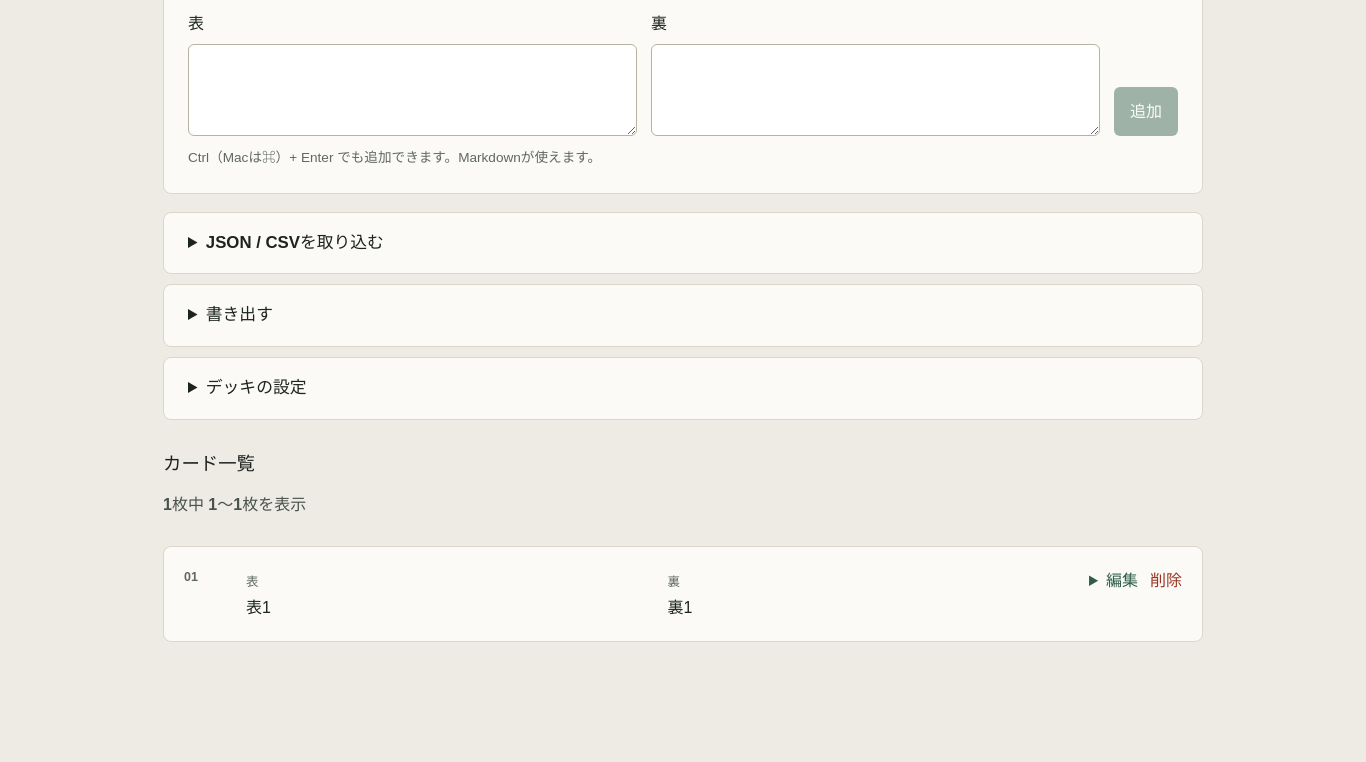
Scenario: DeckDetailScreen › 削除は確認を挟まず実行し、その場で元に戻せる
(page scrolled)
What coordinates should you click on to do the following:
click the button "削除"
I would click on:
 (1166, 581)
Its box is [1150,567,1182,594].
(page scrolled)
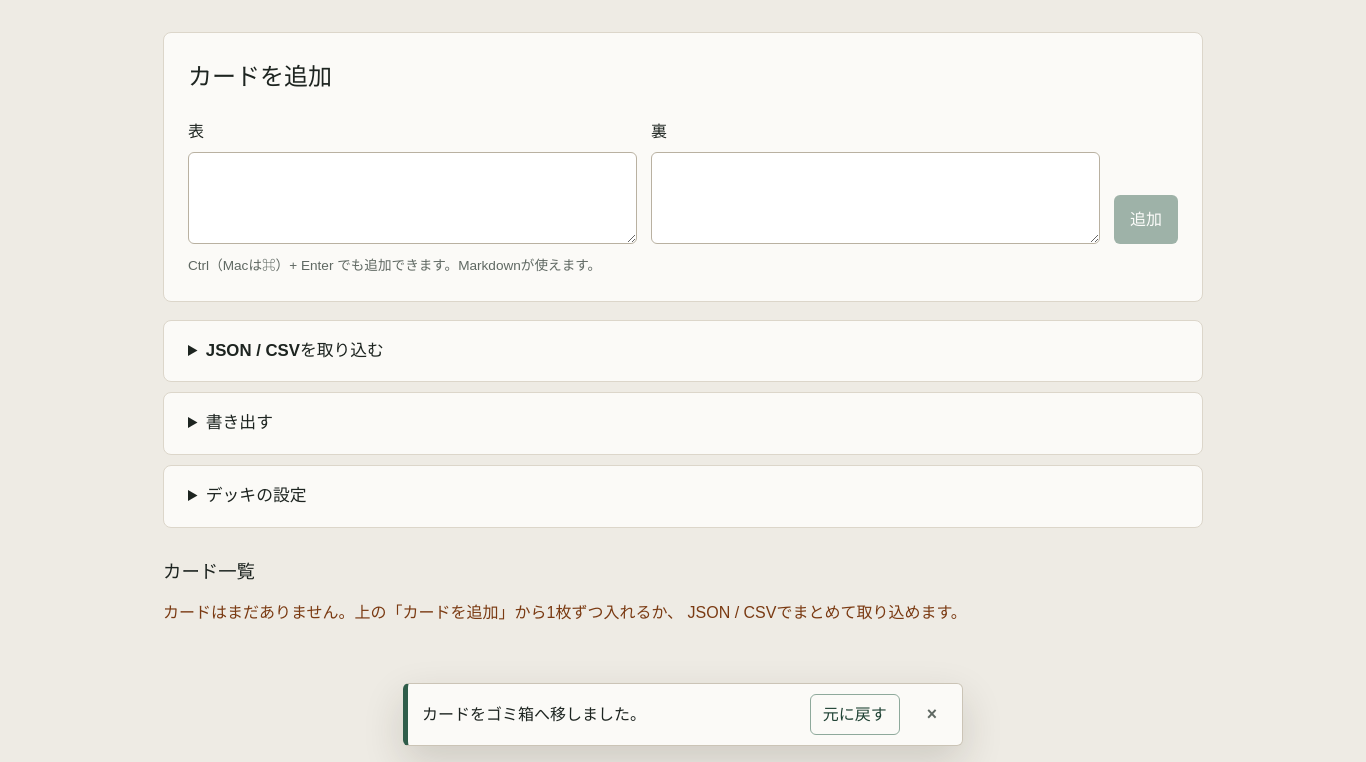
Now the text "カードをゴミ箱へ移しました。" is shown, box [422,706,646,723]
What coordinates should you click on to do the following:
click the button "元に戻す"
I would click on:
 (855, 714)
Its box is [810,694,900,735].
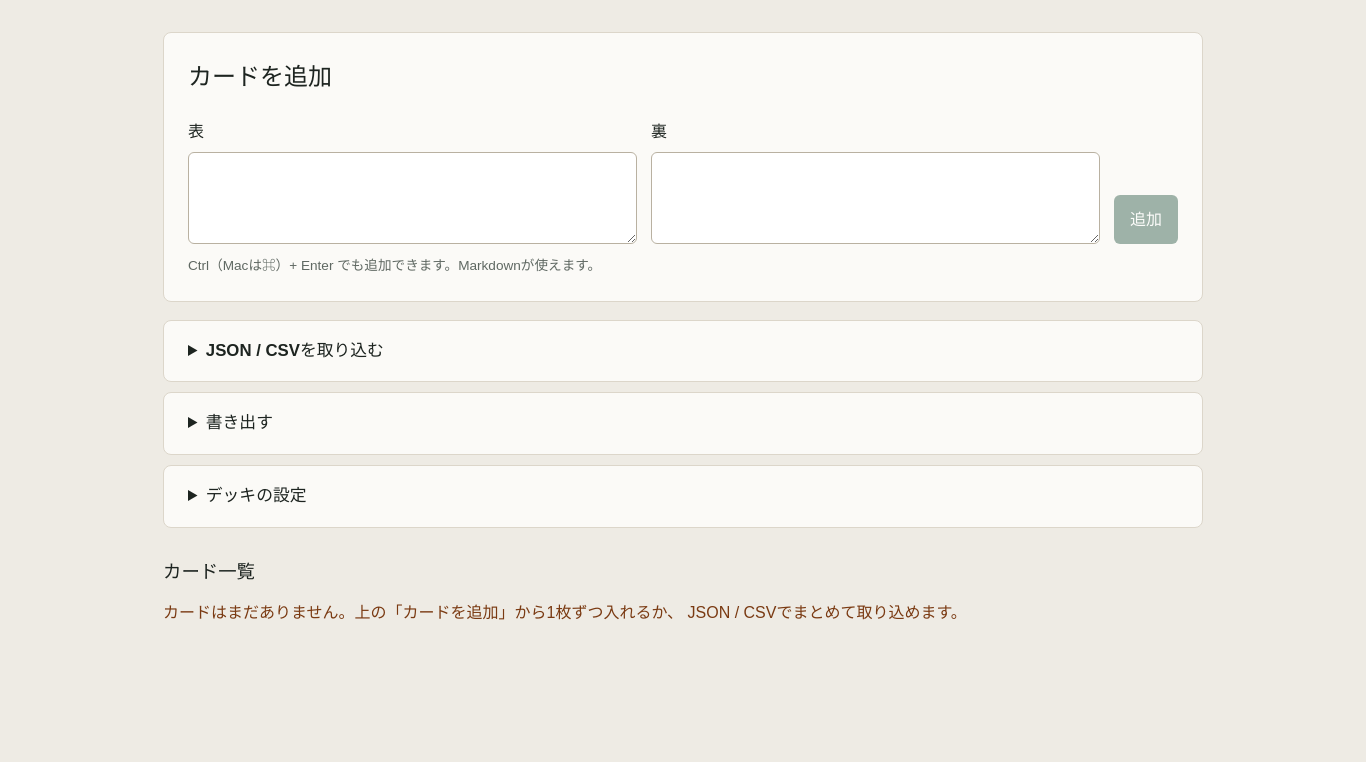
Now the text "ゴミ箱へ移しました" is gone
